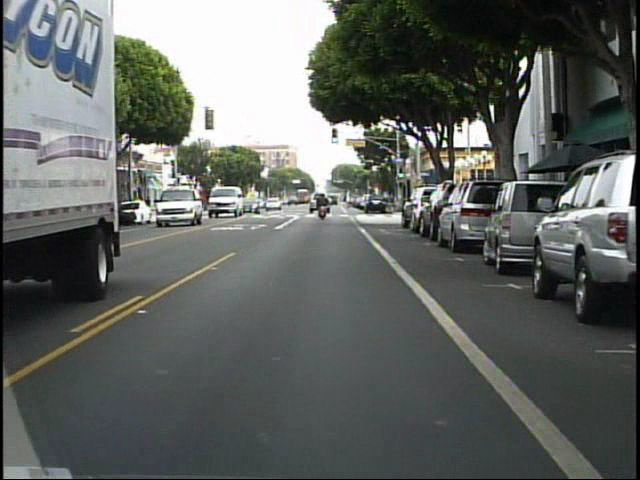person: (316, 191, 331, 220)
